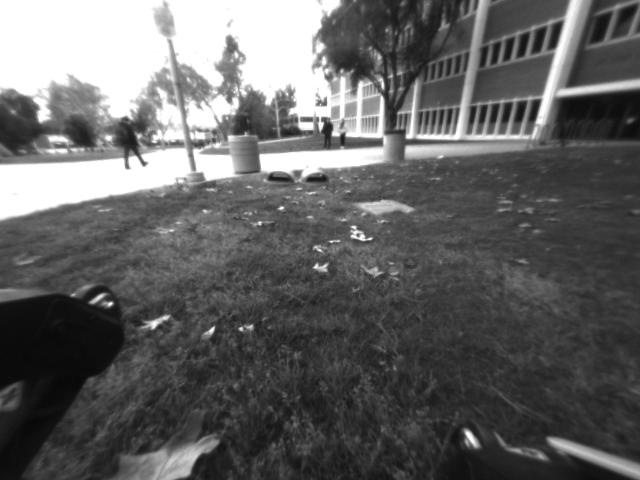trashcan: (228, 134, 262, 179), (384, 131, 403, 162)
